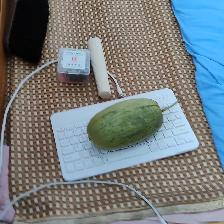gua: (83, 96, 165, 142)
